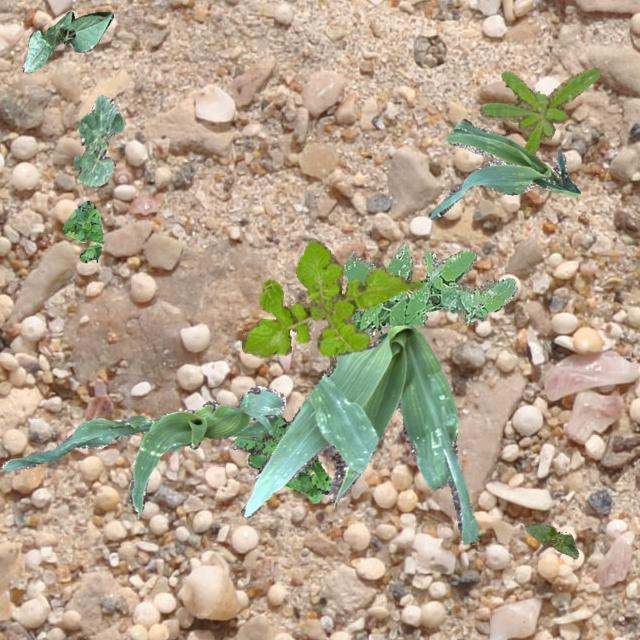crop: (239, 323, 476, 542), (2, 384, 284, 518), (428, 118, 580, 218), (21, 10, 112, 72), (73, 94, 124, 185), (524, 522, 578, 558)
weed: (240, 236, 422, 358), (342, 242, 516, 336), (479, 65, 602, 154), (230, 416, 332, 502), (62, 200, 104, 262)
